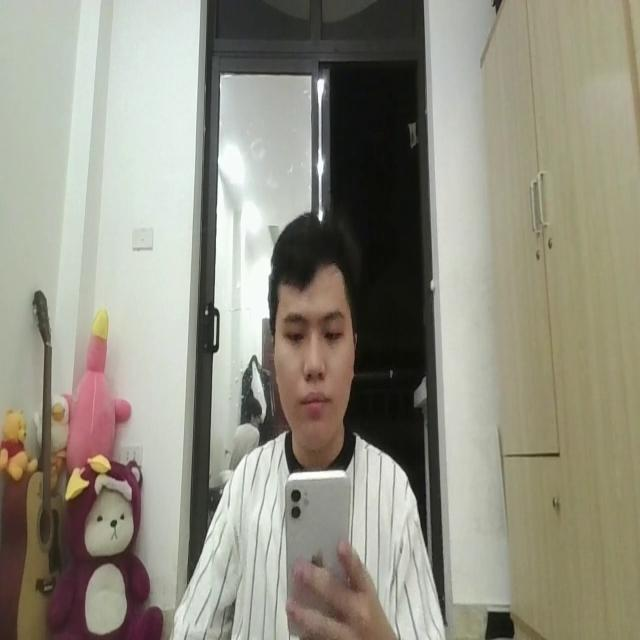phone: (285, 459, 350, 640)
student: (170, 210, 445, 640)
